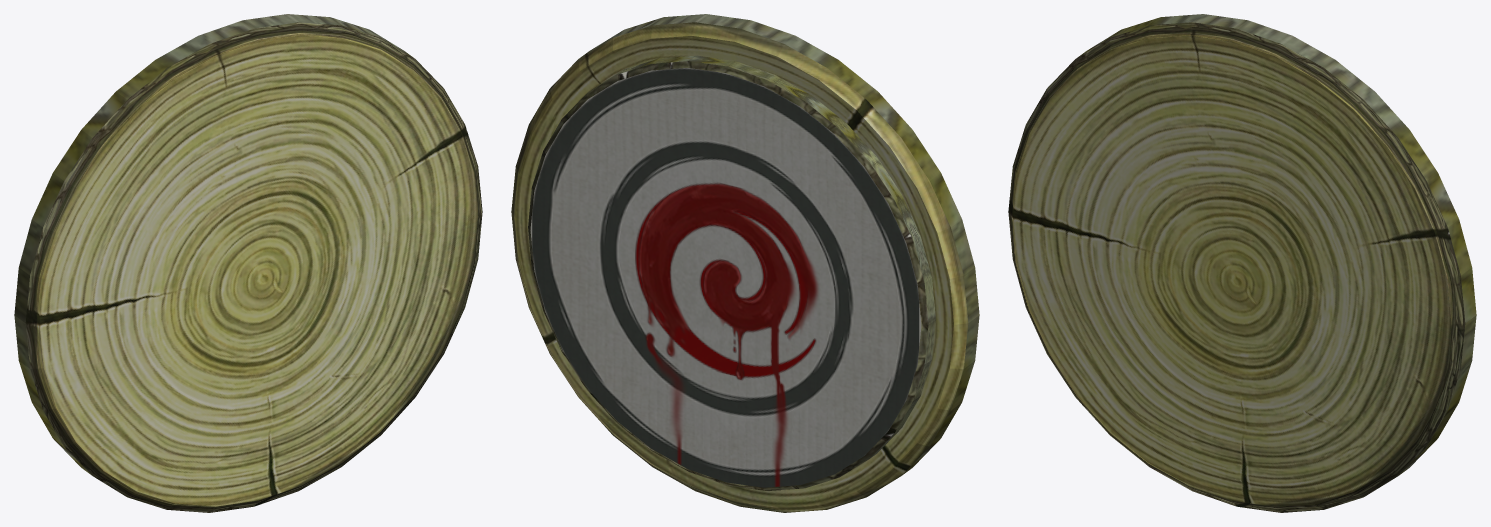
Rendered from ShootingTarget1.fbx.
The picture shows the model from 3 angles, left to right: view 1: azimuth 30°, elevation 25°; view 2: azimuth 150°, elevation 25°; view 3: azimuth 330°, elevation 25°; orthographic projection.
Parts seen in each view (by area): view 1: Cylinder; view 2: Cylinder; view 3: Cylinder.
Part boxes in pixels (bbox=[...]): Cylinder: bbox=[14, 14, 482, 512]; Cylinder: bbox=[511, 14, 979, 512]; Cylinder: bbox=[1008, 14, 1476, 512].
Bounding box in the file's own units: 47.32 × 47.32 × 5.35.
1 material, 1 textured.
